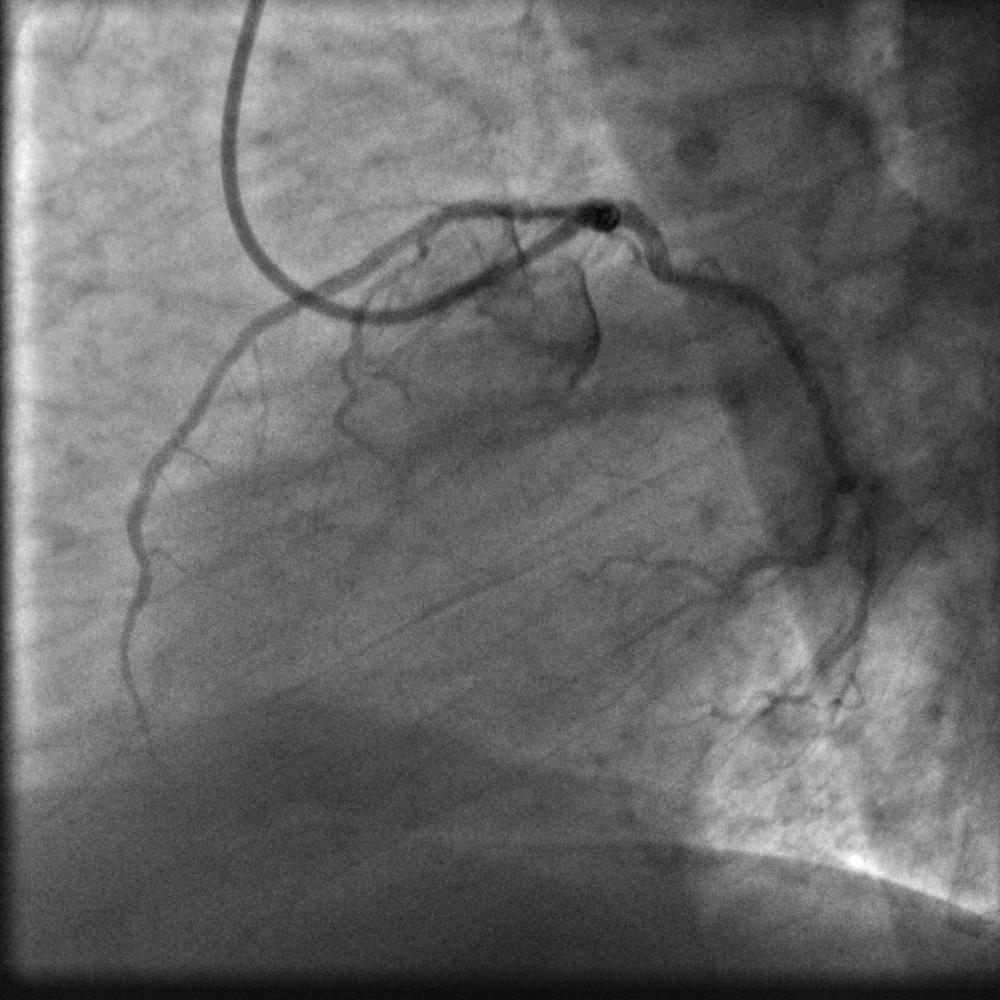Stenosis: (521, 201, 536, 223)
